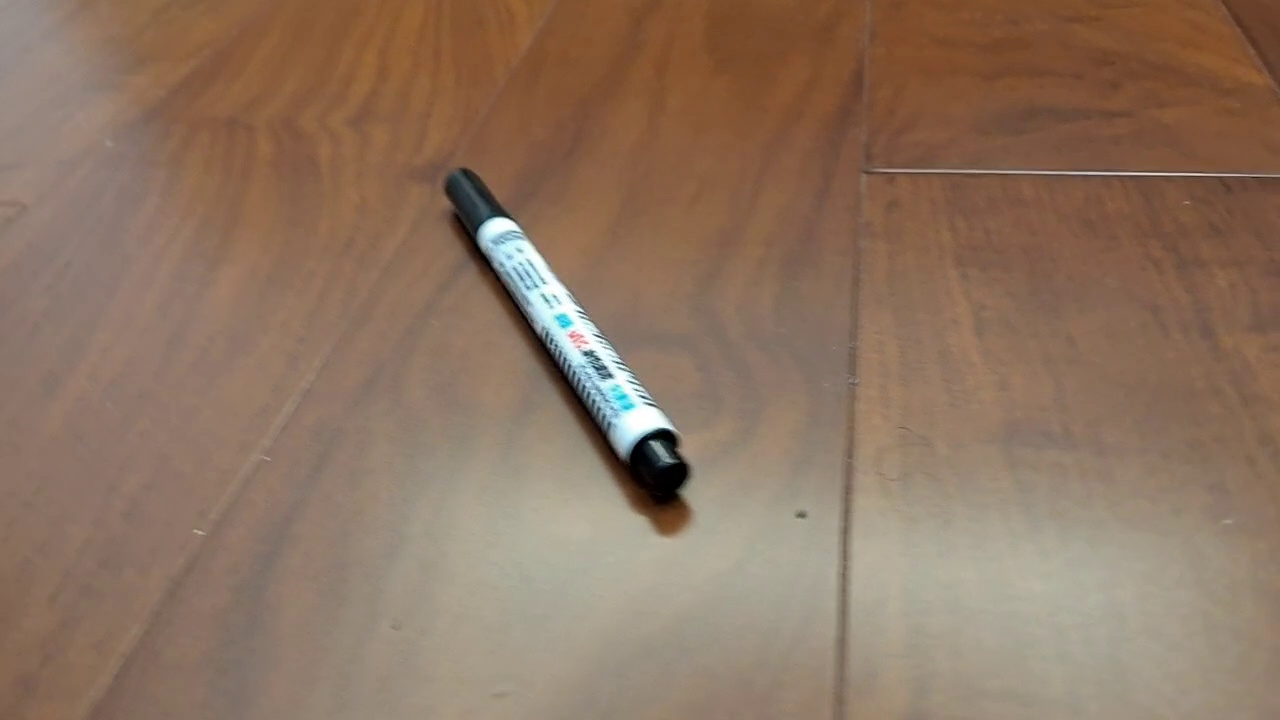pen: (443, 165, 693, 498)
